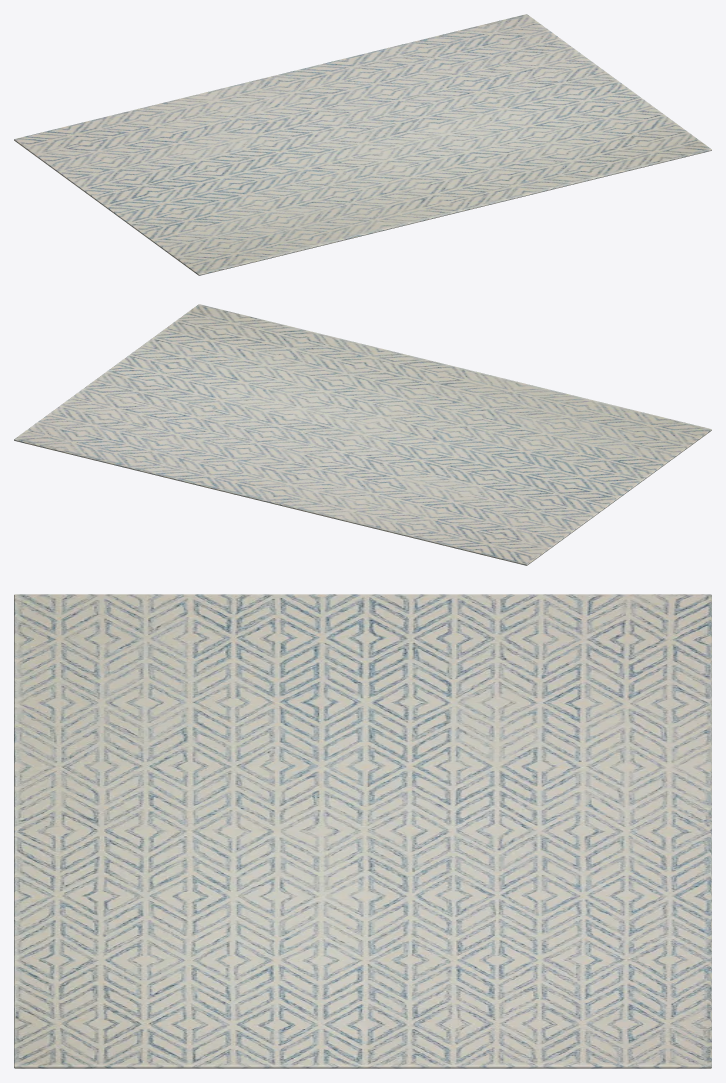
File: rug_abo_B0735THVQH.glb
3 views of the same model, one above another, from view 1: azimuth 30°, elevation 25°; view 2: azimuth 150°, elevation 25°; view 3: azimuth 270°, elevation 25° (orthographic). The views are drawn at different scales.
Parts seen in each view (by area): view 1: RootNode; view 2: RootNode; view 3: RootNode.
Boxes of the visible parts, x1,y1,x2,y2 form: RootNode: (14,14,711,275); RootNode: (14,304,711,565); RootNode: (14,594,711,1068).
Size of the model in its own units: 2.44 by 0.00775 by 1.53.
Materials: 1 (1 with a texture image).
